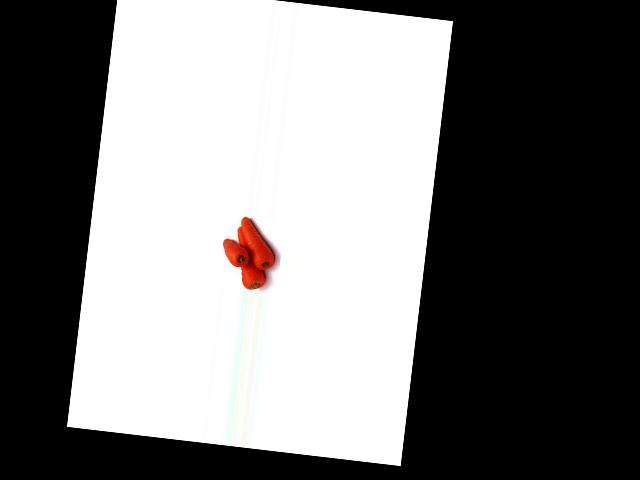carrot: (231, 225, 273, 290)
